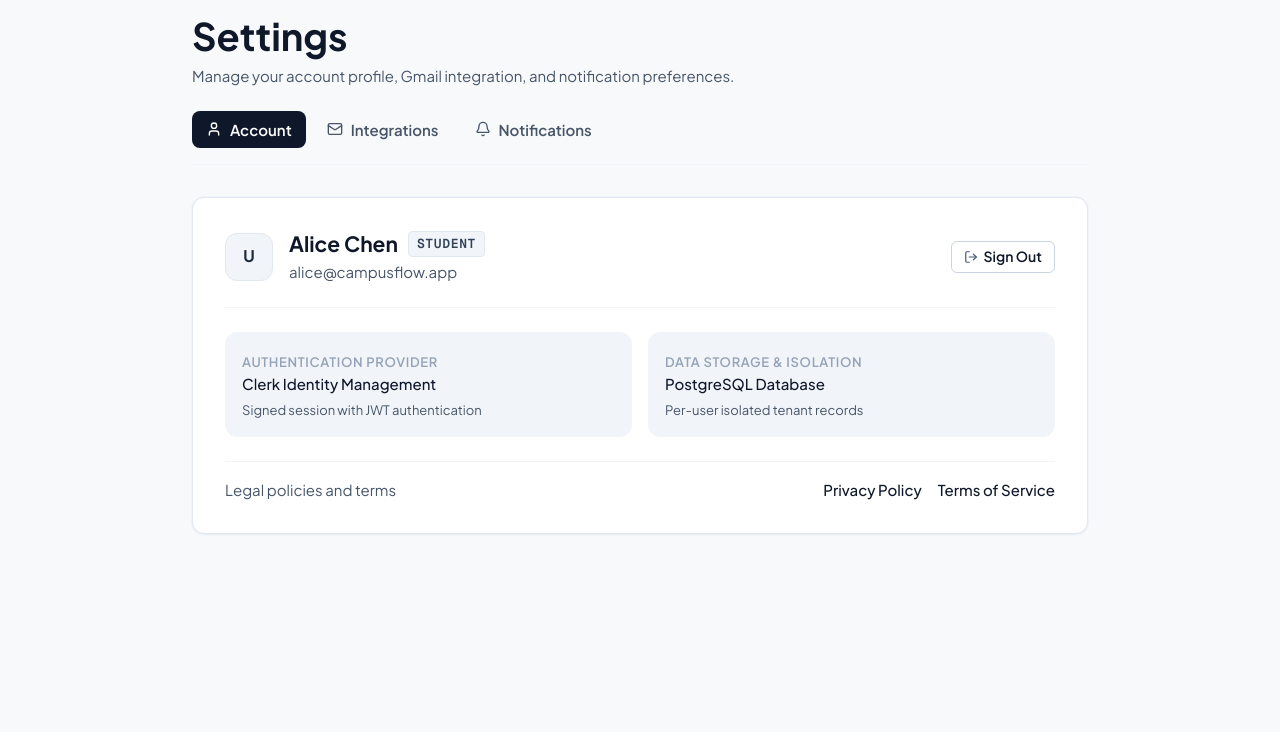
Test: Task Reminders Frontend UI › Settings Notifications Tab & Test Notification UI › renders Web Push and default reminder preference controls
# Switch to Notifications tab
Click the button "Notifications" at [533, 129], box [460,111,607,148]
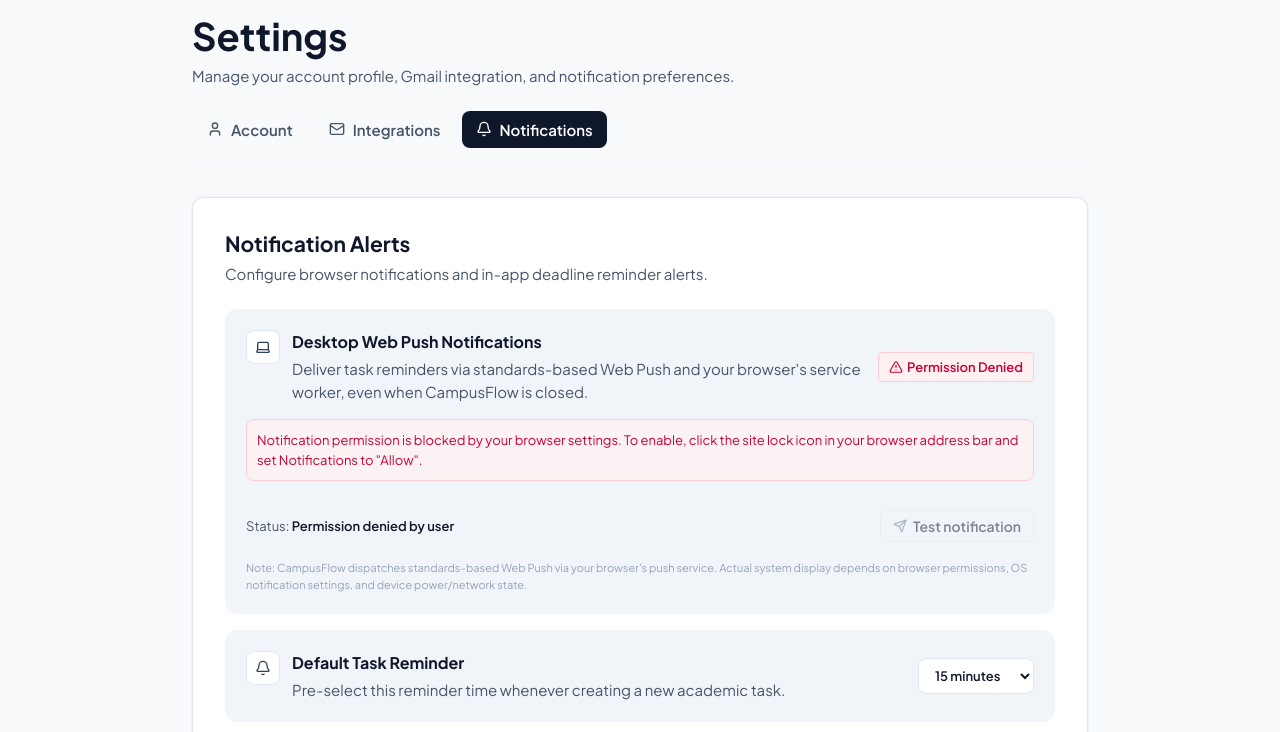
Result: the heading "Desktop Web Push Notifications" is shown at [292,331,542,352]
Result: the heading "Default Task Reminder" is shown at [292,652,464,673]
Result: the button "Test notification" is shown at [880,510,1034,542]
